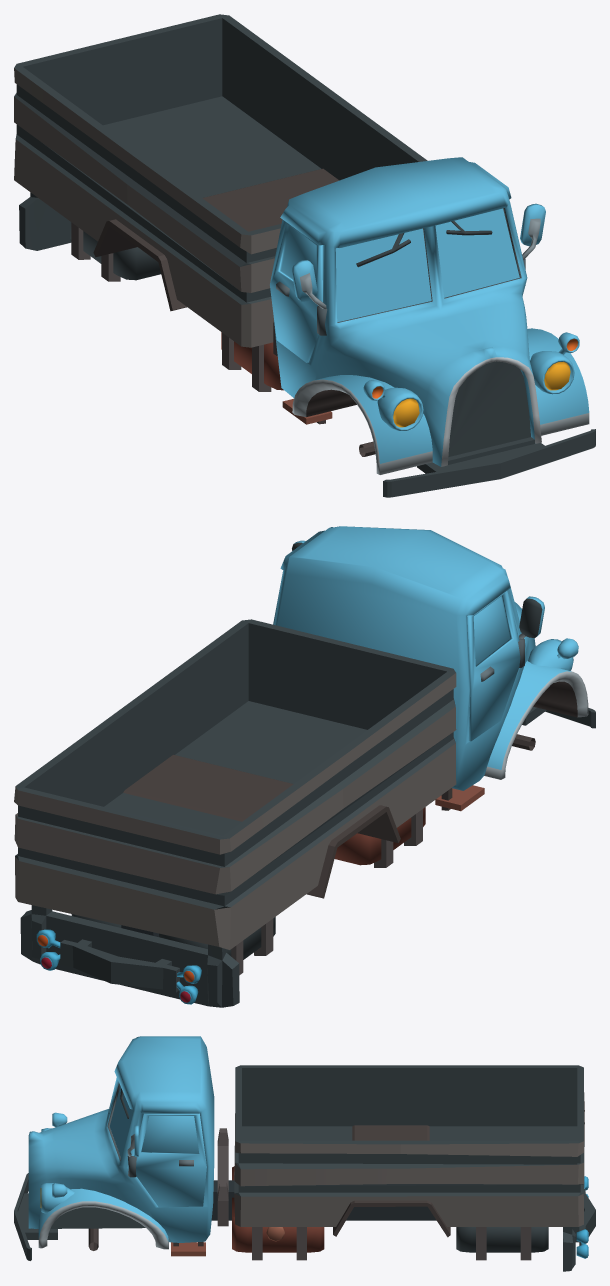
Rendered from Truck 2.fbx.
The picture shows the model from 3 angles, top to bottom: view 1: azimuth 30°, elevation 25°; view 2: azimuth 150°, elevation 25°; view 3: azimuth 270°, elevation 25°; orthographic projection. The views are drawn at different scales.
Visible parts, largest first — view 1: Truck_body; view 2: Truck_body; view 3: Truck_body.
Boxes of the visible parts, x1,y1,x2,y2 form: Truck_body: (14,14,595,497); Truck_body: (14,526,595,1007); Truck_body: (14,1036,595,1271).
Bounding box in the file's own units: 506 × 462 × 1364.
